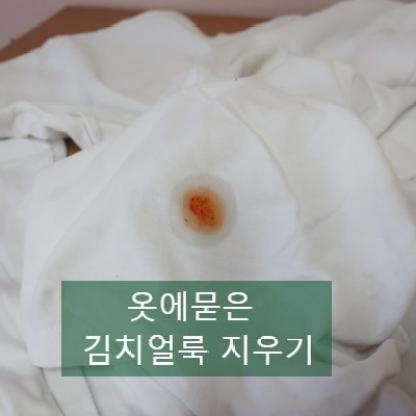kimchi: (172, 179, 225, 238)
